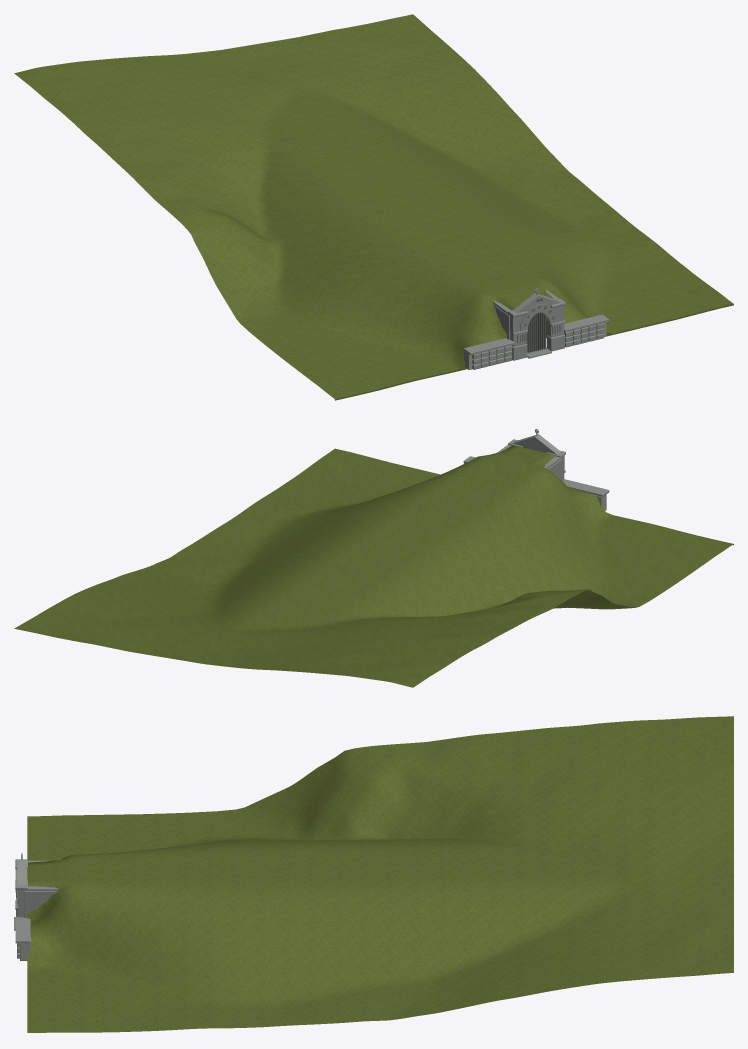
The model's file is hammond-bank-vault.glb.
3 renders of one model, top to bottom at view 1: azimuth 30°, elevation 25°; view 2: azimuth 150°, elevation 25°; view 3: azimuth 270°, elevation 25°, orthographic. The views are drawn at different scales.
Parts seen in each view (by area): view 1: hammond-bank-vault Hammond planted hillside, hammond-bank-vault Hammond weathered grey granite, hammond-bank-vault Hammond carved grey stone, hammond-bank-vault Hammond recess; view 2: hammond-bank-vault Hammond planted hillside, hammond-bank-vault Hammond weathered grey granite, hammond-bank-vault Hammond carved grey stone; view 3: hammond-bank-vault Hammond planted hillside, hammond-bank-vault Hammond weathered grey granite, hammond-bank-vault Hammond carved grey stone.
Part boxes in pixels (box(x1,y1,x2,y2)): hammond-bank-vault Hammond planted hillside: box(14, 14, 733, 400); hammond-bank-vault Hammond weathered grey granite: box(472, 289, 604, 369); hammond-bank-vault Hammond carved grey stone: box(463, 288, 609, 358); hammond-bank-vault Hammond recess: box(526, 312, 545, 351); hammond-bank-vault Hammond planted hillside: box(14, 445, 733, 687); hammond-bank-vault Hammond weathered grey granite: box(497, 434, 564, 481); hammond-bank-vault Hammond carved grey stone: box(463, 429, 609, 497); hammond-bank-vault Hammond planted hillside: box(27, 716, 733, 1032); hammond-bank-vault Hammond weathered grey granite: box(16, 860, 58, 958); hammond-bank-vault Hammond carved grey stone: box(14, 853, 30, 943).
Bounding box in the file's own units: 28 × 6.37 × 39.74.
6 materials, 3 textured.
